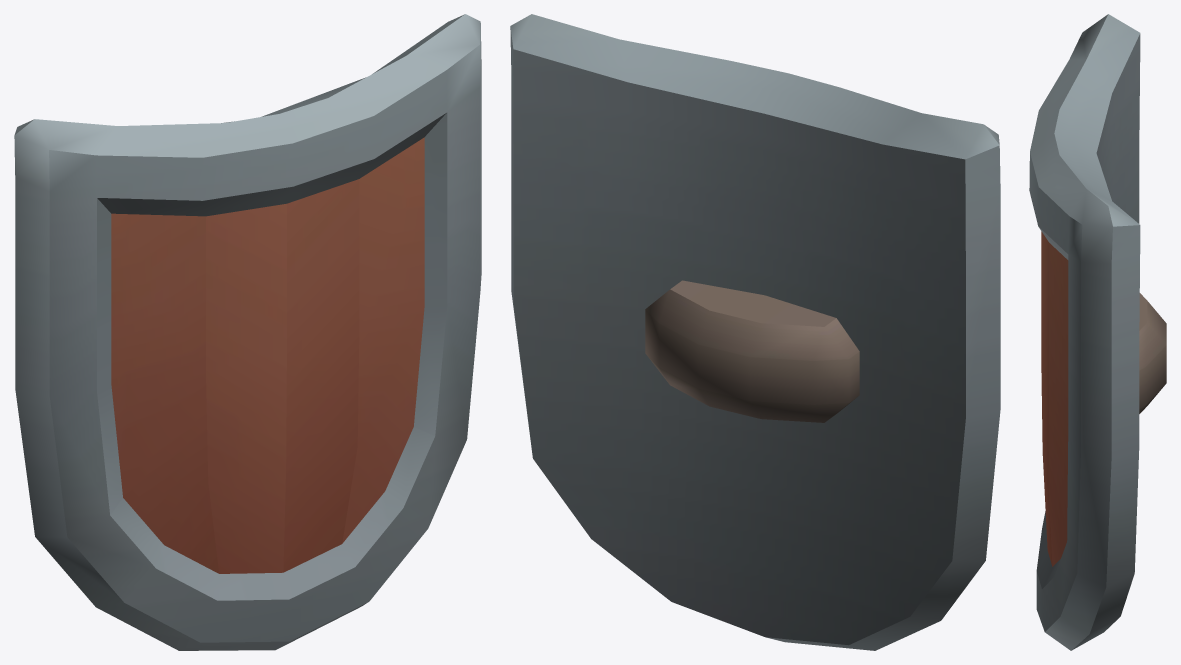
File: kaykit-shield-badge.glb
3 views of the same model, side by side, from view 1: azimuth 30°, elevation 25°; view 2: azimuth 150°, elevation 25°; view 3: azimuth 270°, elevation 25° (orthographic). The views are drawn at different scales.
Visible parts, largest first — view 1: shield_badge; view 2: shield_badge; view 3: shield_badge.
Part boxes in pixels (x1,y1,x2,y2): shield_badge: [14, 14, 481, 650]; shield_badge: [510, 14, 1000, 650]; shield_badge: [1029, 14, 1166, 650].
Size of the model in its own units: 0.8827 by 1.02 by 0.2458.
1 material, 1 textured.
